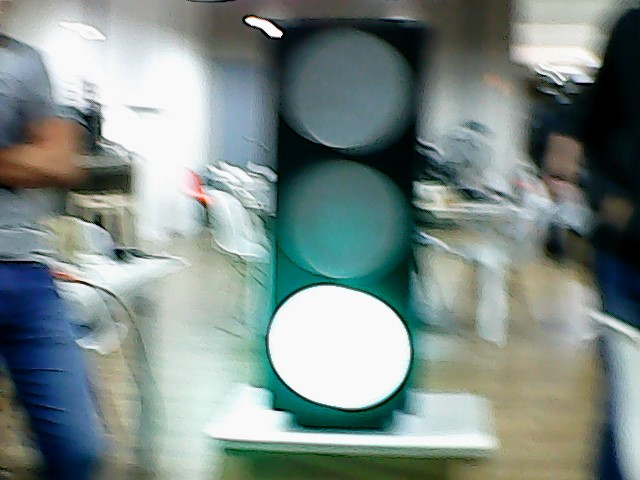verde: (260, 15, 422, 418)
